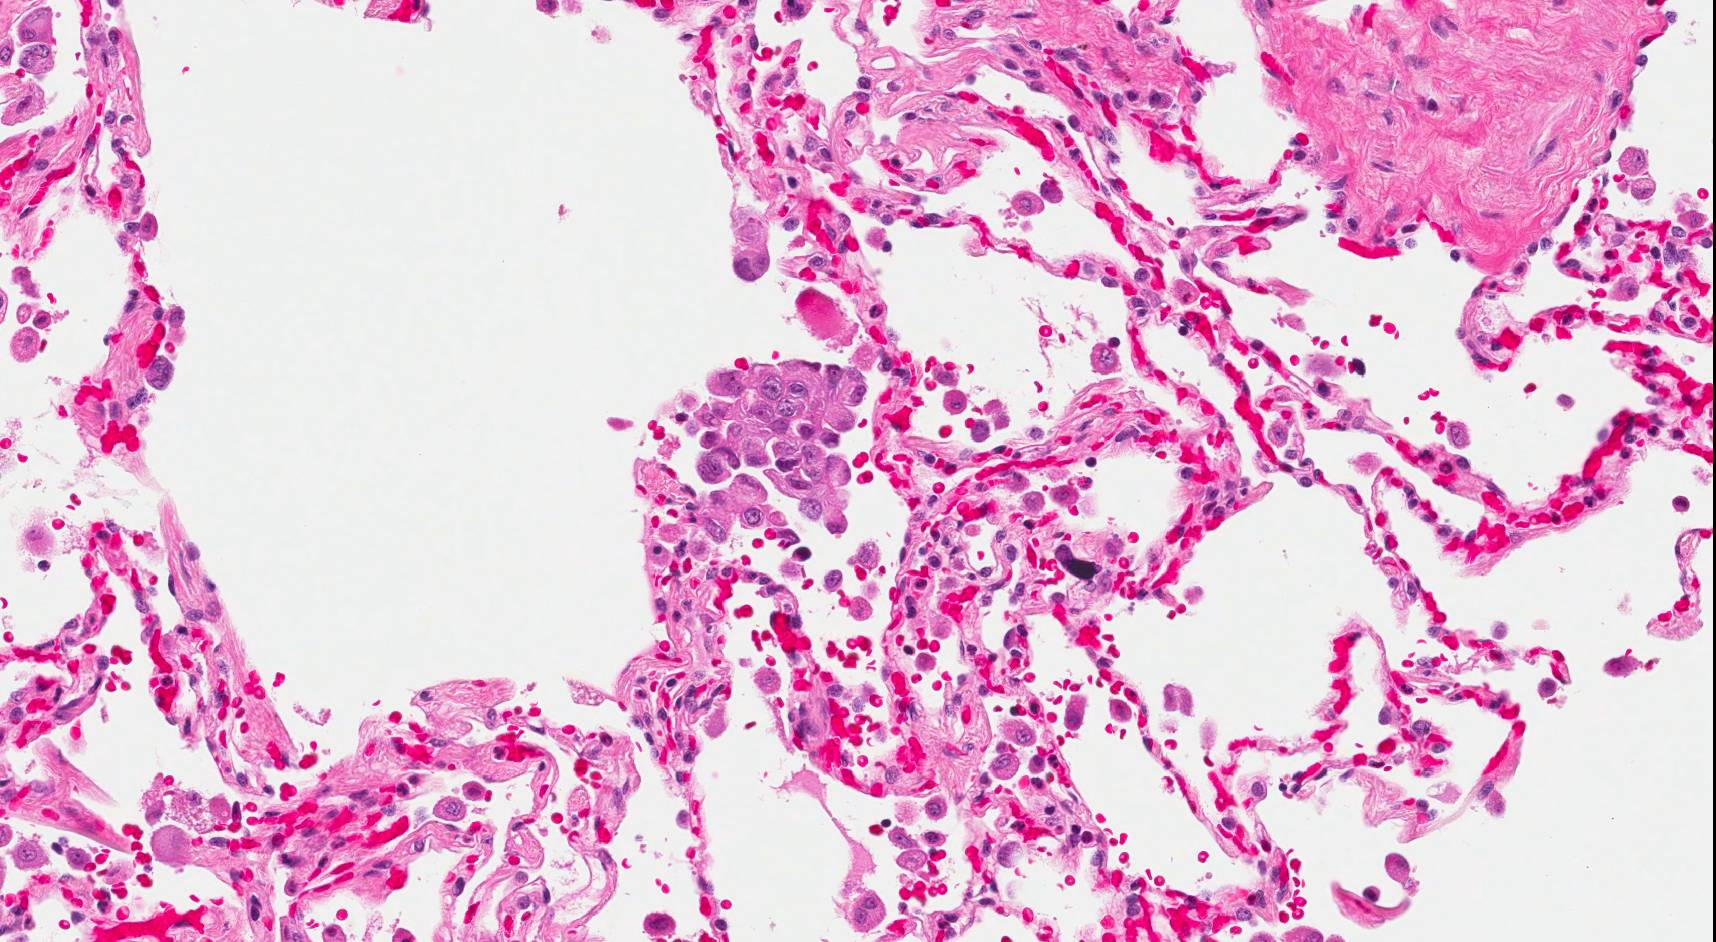stas: (687, 355, 868, 545), (729, 216, 774, 288)
